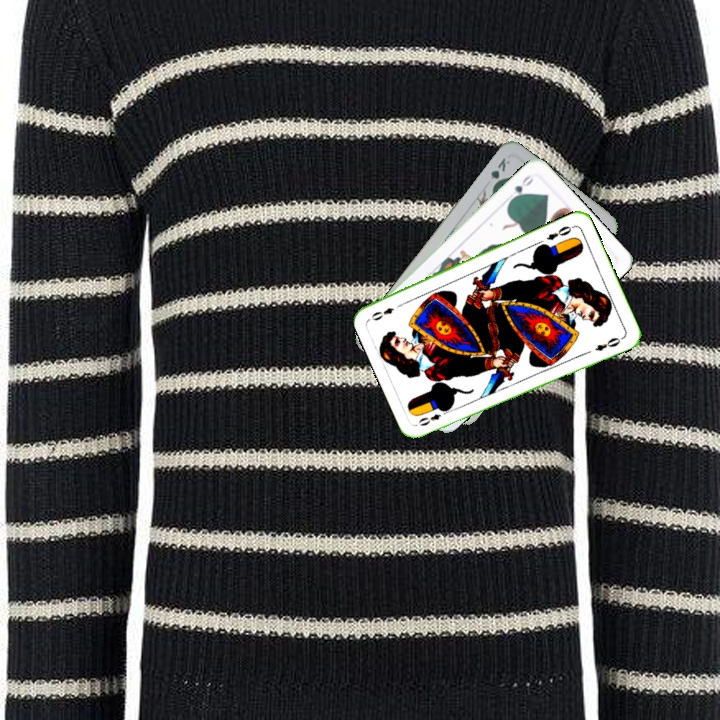EO: (542, 221, 577, 243), (414, 410, 444, 429)
GK: (486, 153, 513, 191)
GO: (506, 171, 536, 204)
